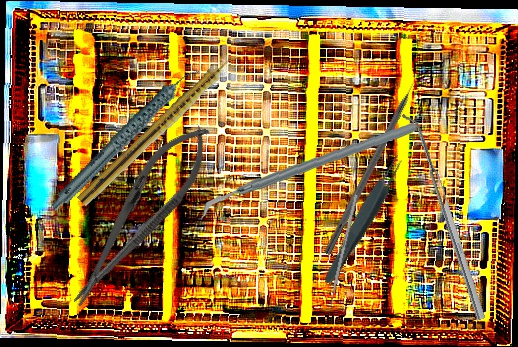Chopper: (197, 110, 418, 232)
Handpiece: (28, 65, 224, 212), (76, 48, 243, 211)
Hook Surgical: (322, 61, 429, 257)
Needle Holder: (54, 111, 225, 319)
Pusher: (325, 194, 359, 318)
Spatula Surgical: (401, 109, 486, 324)
Tissue Forceps: (319, 151, 409, 288)
